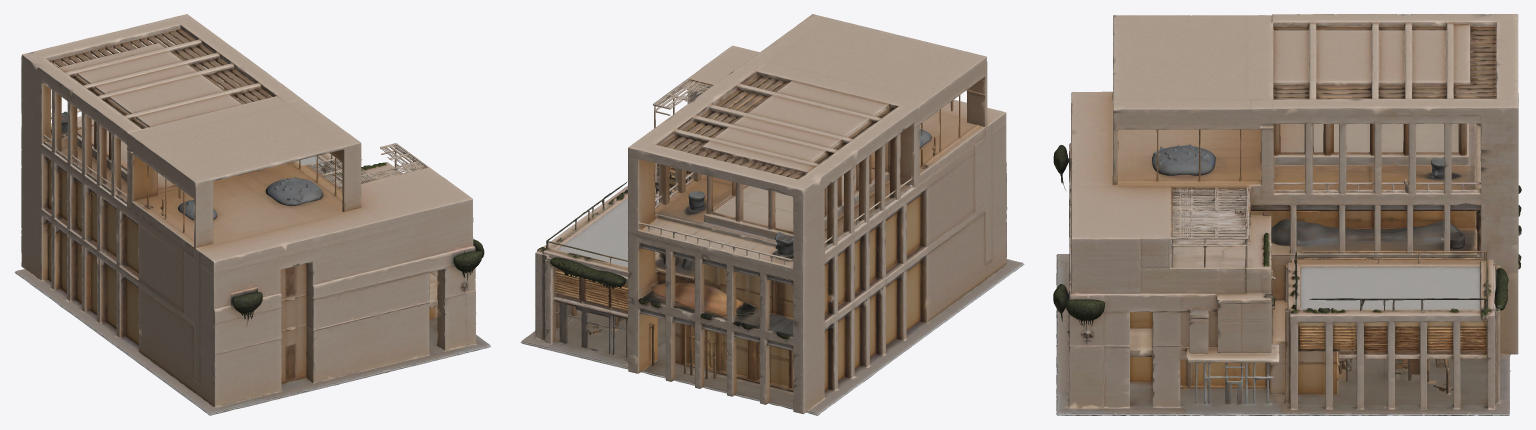
File: shopblock_iso.glb
The picture shows the model from 3 angles, left to right: view 1: azimuth 30°, elevation 25°; view 2: azimuth 150°, elevation 25°; view 3: azimuth 270°, elevation 25°; orthographic projection. The views are drawn at different scales.
Parts seen in each view (by area): view 1: tripo_node_f659cf5f-adca-4809-aeab-73c3730deb1c; view 2: tripo_node_f659cf5f-adca-4809-aeab-73c3730deb1c; view 3: tripo_node_f659cf5f-adca-4809-aeab-73c3730deb1c.
Boxes of the visible parts, box(x1,y1,x2,y2) form: tripo_node_f659cf5f-adca-4809-aeab-73c3730deb1c: box(14, 14, 490, 415); tripo_node_f659cf5f-adca-4809-aeab-73c3730deb1c: box(520, 14, 1024, 415); tripo_node_f659cf5f-adca-4809-aeab-73c3730deb1c: box(1053, 14, 1521, 415).
Size of the model in its own units: 17.09 by 12 by 20.49.
1 material, 1 textured.
